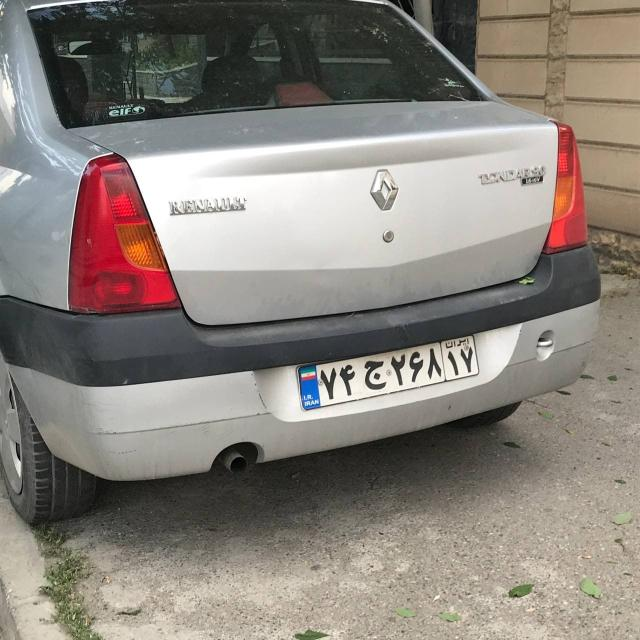Plates: (294, 331, 480, 410)
